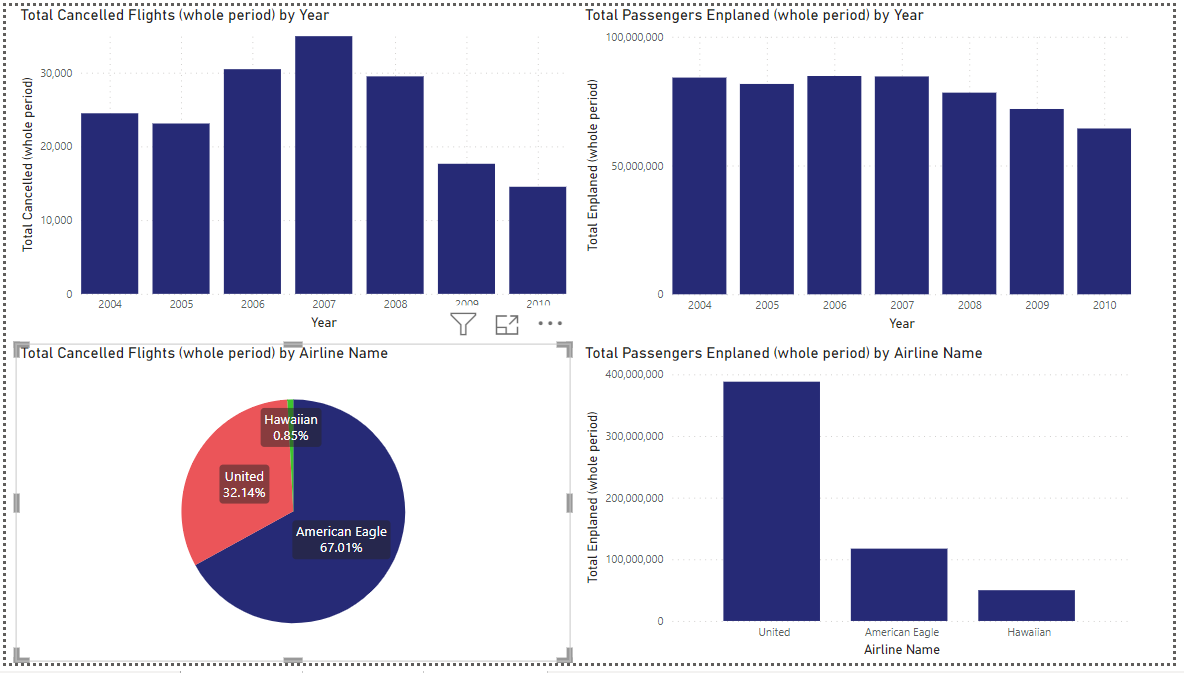

The page's visual inventory and layout, read from the dashboard file:
{"tool":"powerbi","page":{"name":"Page 3","canvas":[1280,720],"ordinal":2},"visuals":[{"type":"columnChart","title":"Total Cancelled Flights (whole period) by Year","fields":{"Y":["factComplaints.Total Cancelled(whole period)"],"Category":["dimDates.Year"]},"box":[10.3,0,608.9,360.5],"z":0},{"type":"pieChart","title":"Total Cancelled Flights (whole period) by Airline Name","fields":{"Category":["dimAirlines.Airline Name"],"Y":["factComplaints.Total Cancelled(whole period)"]},"box":[10,371,609,349],"z":1000},{"type":"columnChart","title":"Total Passengers Enplaned (whole period) by Year","fields":{"Y":["factComplaints.Total Enplaned (whole period)"],"Category":["dimDates.Year"]},"box":[629,0,609,361],"z":2000},{"type":"columnChart","title":"Total Passengers Enplaned (whole period) by Airline Name","fields":{"Y":["factComplaints.Total Enplaned (whole period)"],"Category":["dimAirlines.Airline Name"]},"box":[629,371,609,349],"z":3000}]}

Visuals, with their boxes in screenshot pixels (x1, y1, x2, y2), scaled from the page's 1280x720 canvas onto the 1184x673 screenshot:
"Total Cancelled Flights (whole period) by Year" columnChart: [left=10, top=0, right=573, bottom=337]
"Total Cancelled Flights (whole period) by Airline Name" pieChart: [left=9, top=347, right=573, bottom=672]
"Total Passengers Enplaned (whole period) by Year" columnChart: [left=582, top=0, right=1145, bottom=337]
"Total Passengers Enplaned (whole period) by Airline Name" columnChart: [left=582, top=347, right=1145, bottom=672]
